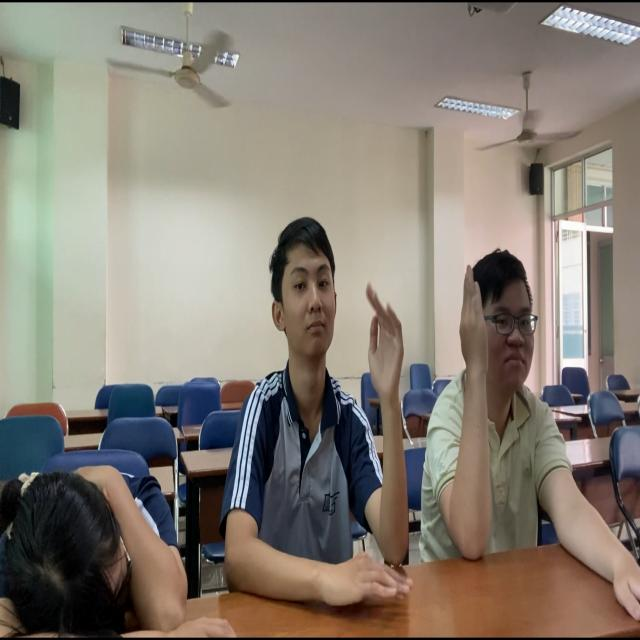raise_hand: (434, 239, 596, 565)
sleep: (1, 437, 226, 640)
